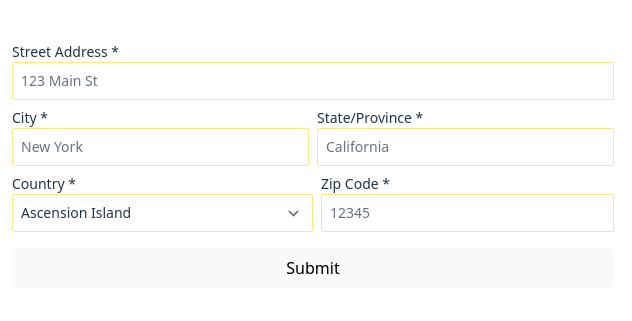
Scenario: AddressForm › shows validation errors for empty fields
Click the button "Submit": click(313, 268) [12,248,614,288]
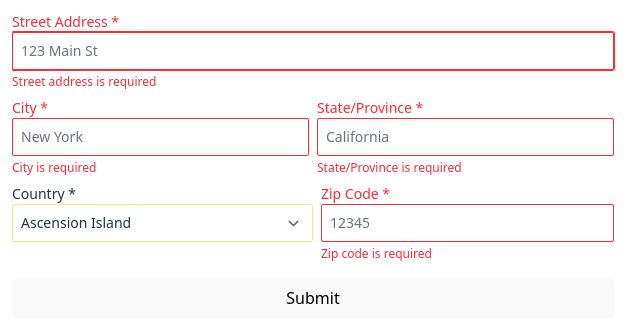
Expected: the text "Street address is required" is shown, [12,73,156,90]
Expected: the text "City is required" is shown, [12,159,96,176]
Expected: the text "State/Province is required" is shown, [317,159,462,176]
